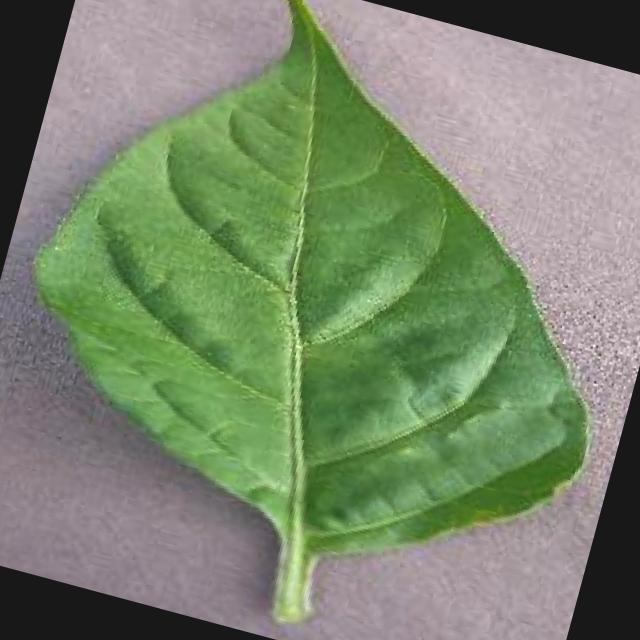Leaf: (12, 0, 640, 595)
